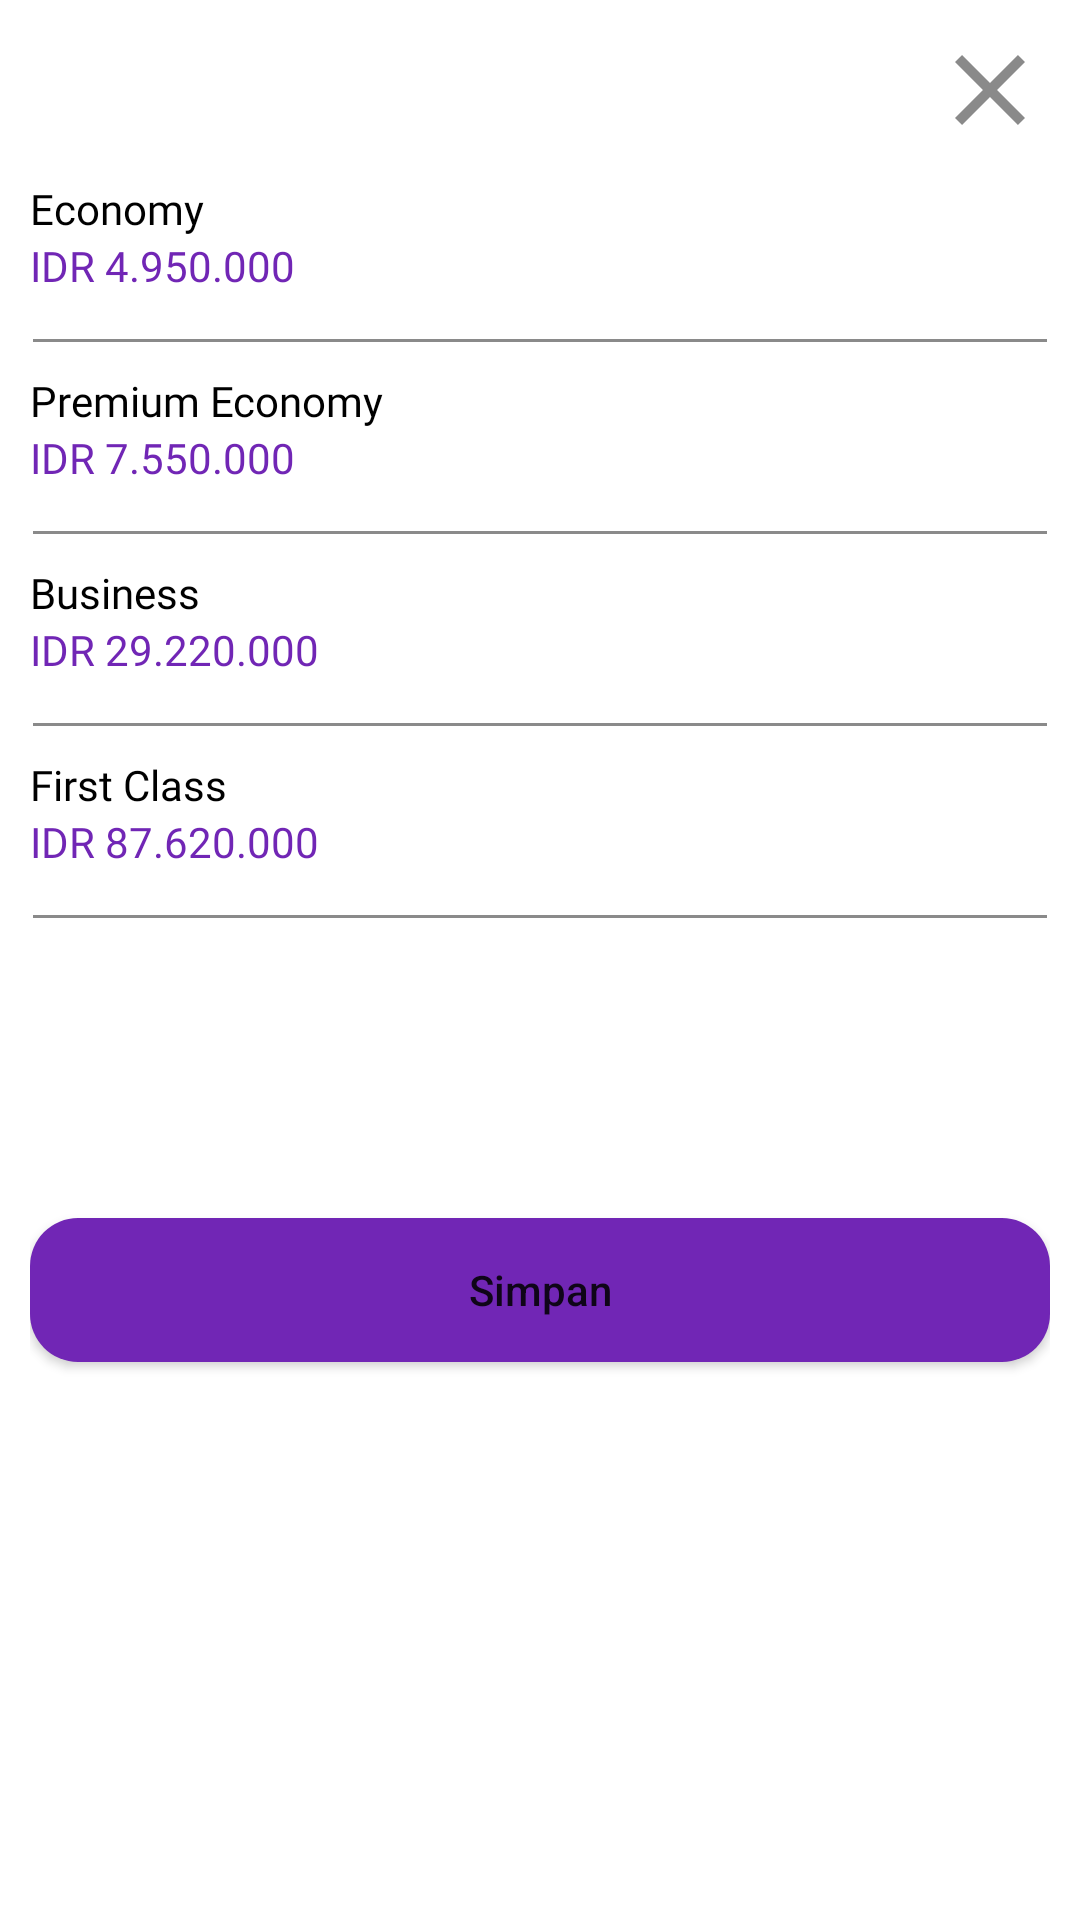

Icons on this 1080*1920 Android screen, each with the point to tap as (x=x, y=y):
close: (x=990, y=90)
